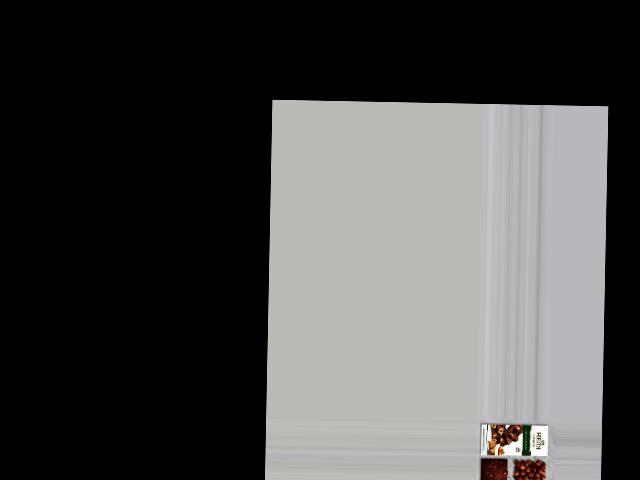chocolate: (478, 457, 508, 480)
